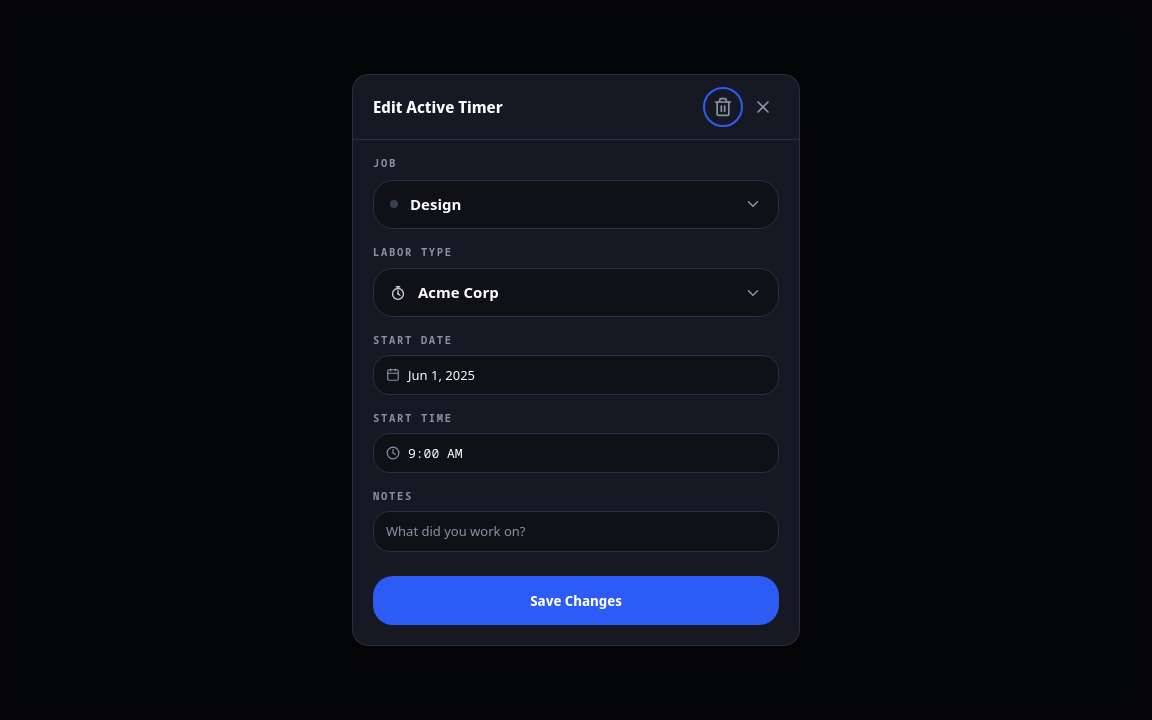
Test: EditEntryModal — validation › rejects a future start on an active timer (#153)
Click the button with aria-label "start date": (442, 375) x1=373 y1=354 x2=779 y2=395
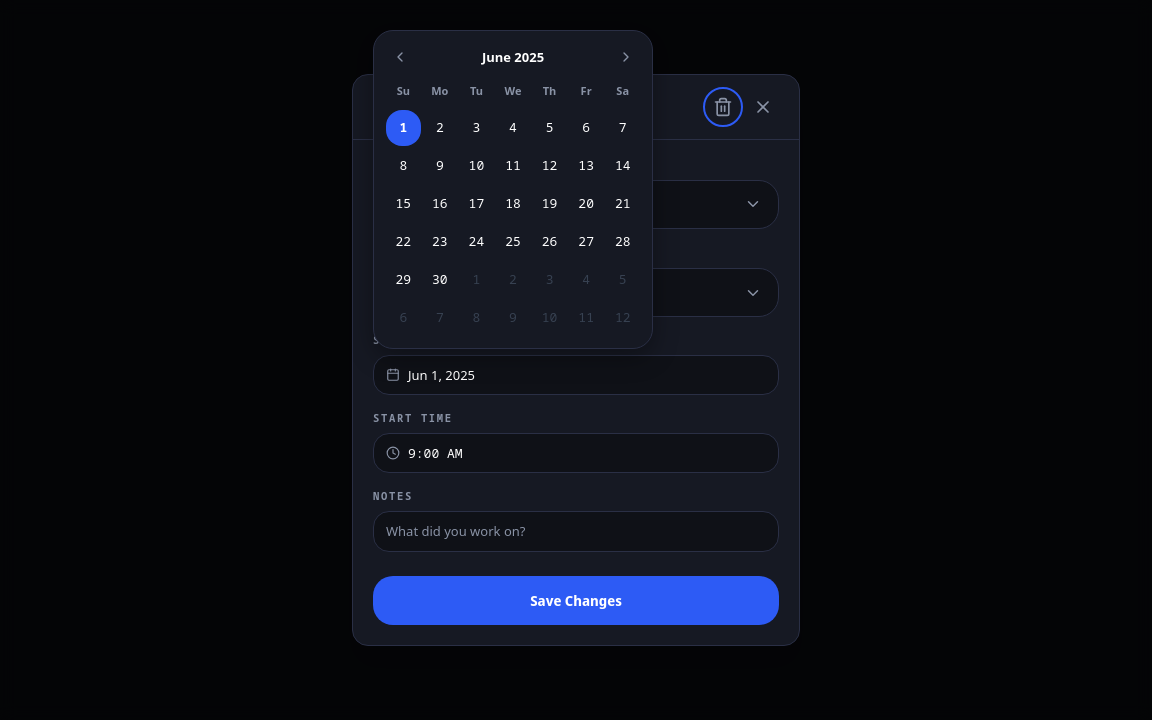
Click the button named "June 2, 2025": (440, 128) x1=423 y1=110 x2=457 y2=146
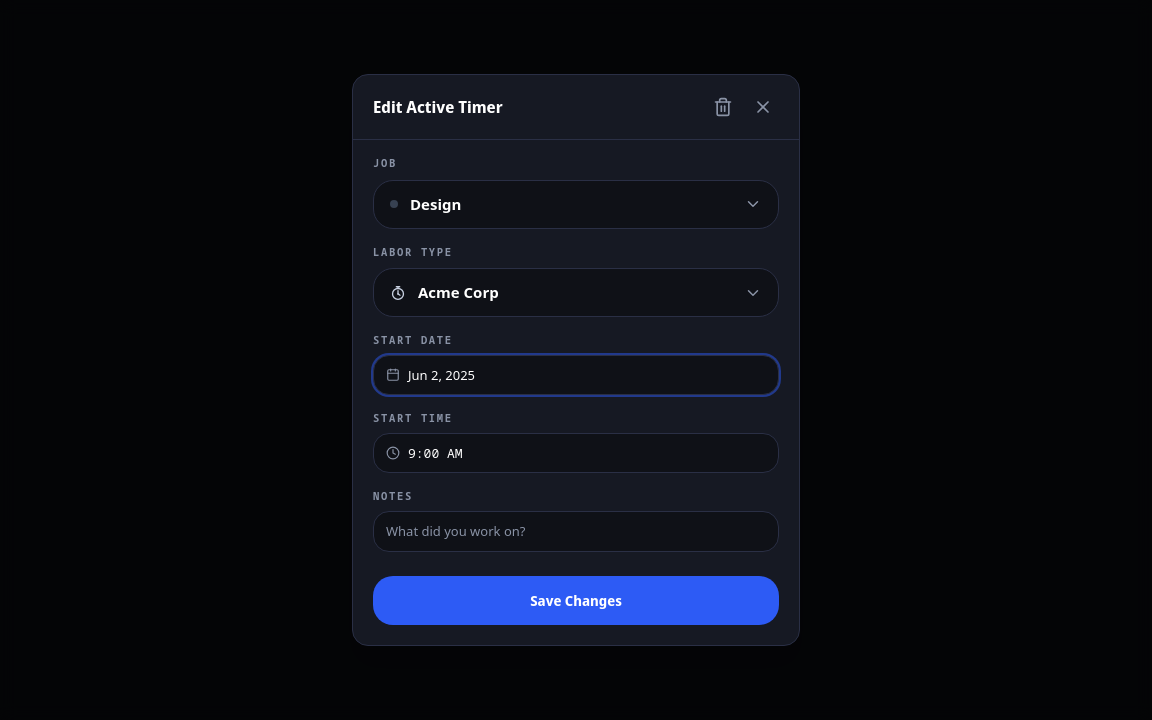
Click the button "Save Changes": (576, 600) x1=373 y1=576 x2=779 y2=625
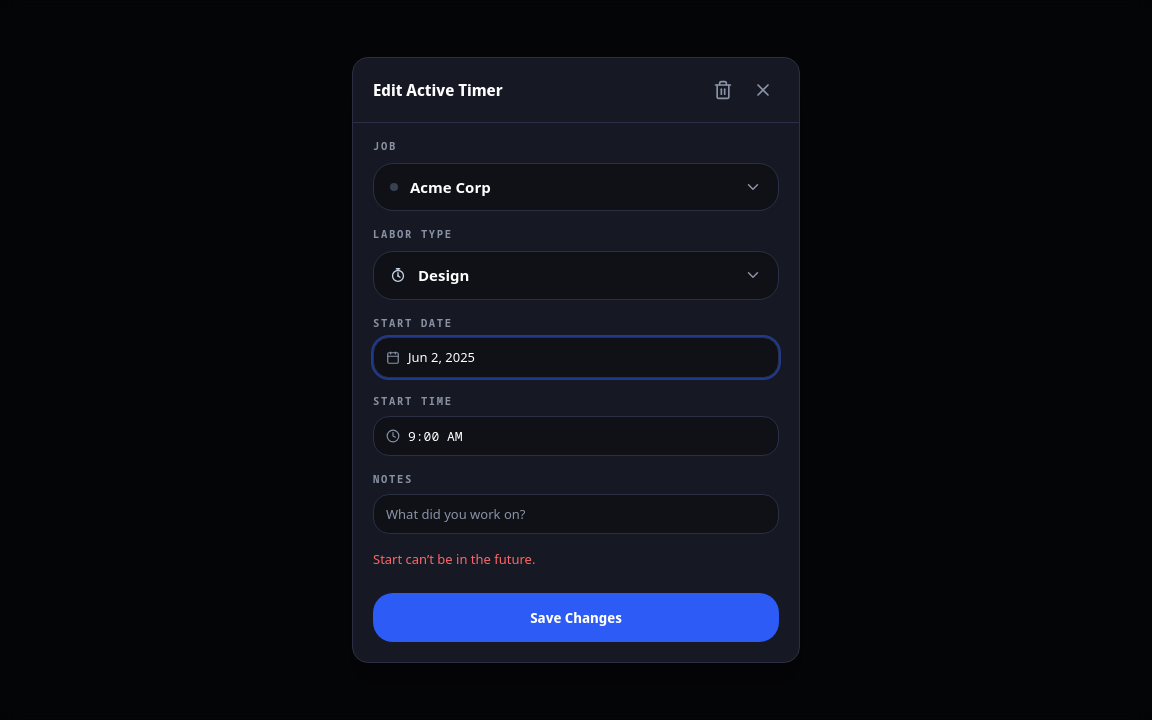
Now the text "Start can’t be in the future." is shown, box x1=373 y1=550 x2=535 y2=568
